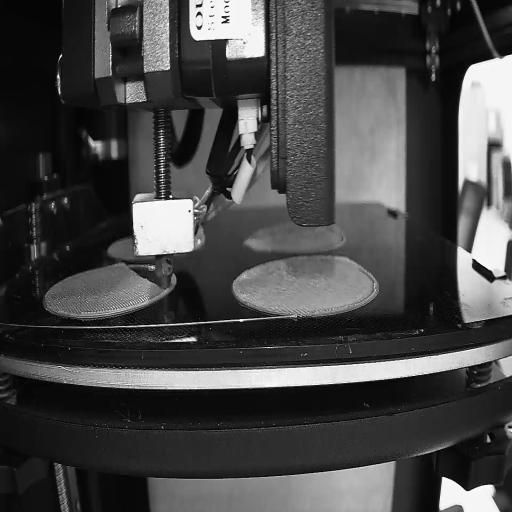over_extrusion: (359, 262, 380, 309), (116, 259, 127, 269)
